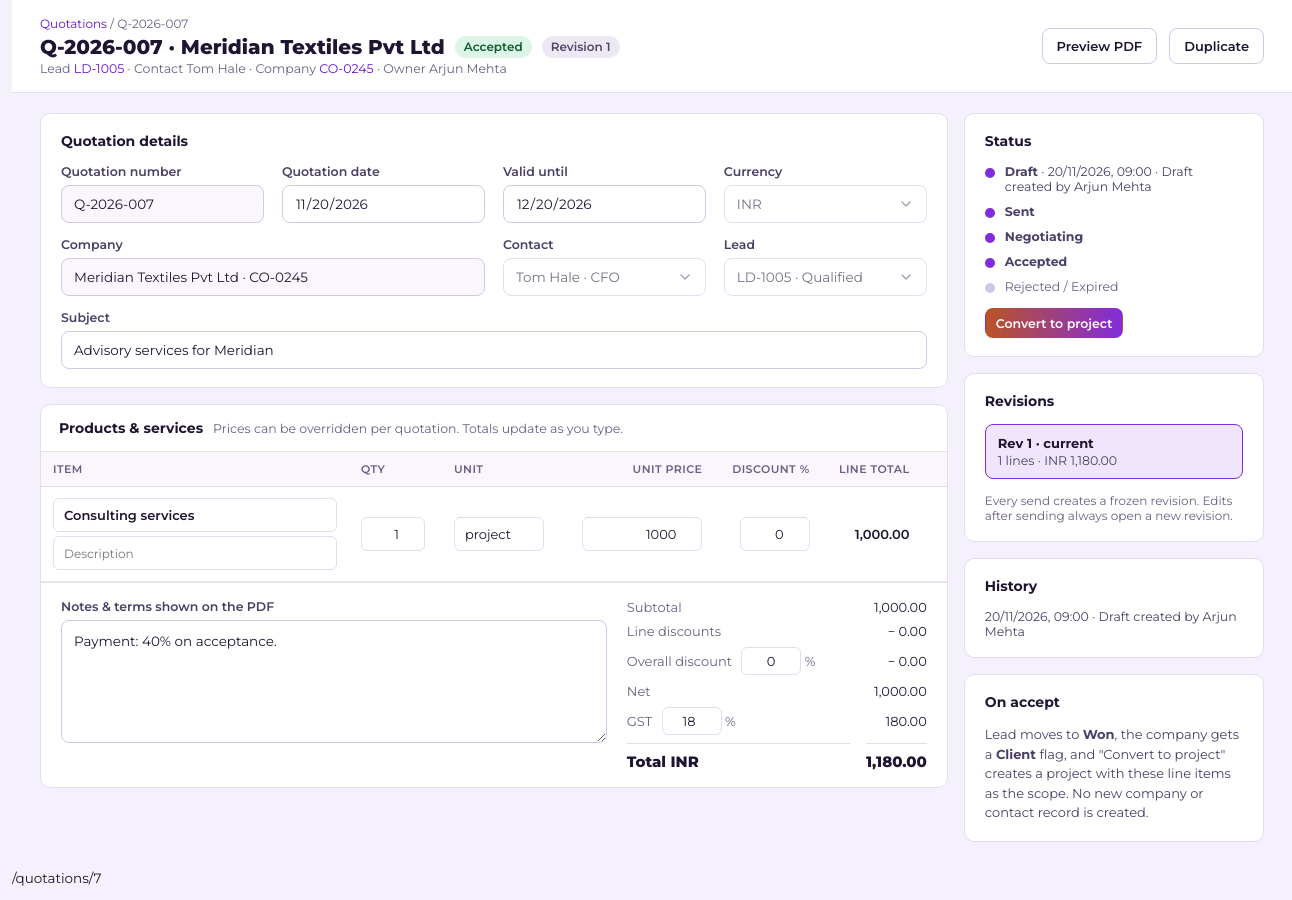
Quotation editor (prototype V.quoteEditor) › Convert to project: enabled on an Accepted quotation without a project, then the project link
Click the button "Convert to project": point(1054, 323) [985,308,1123,338]
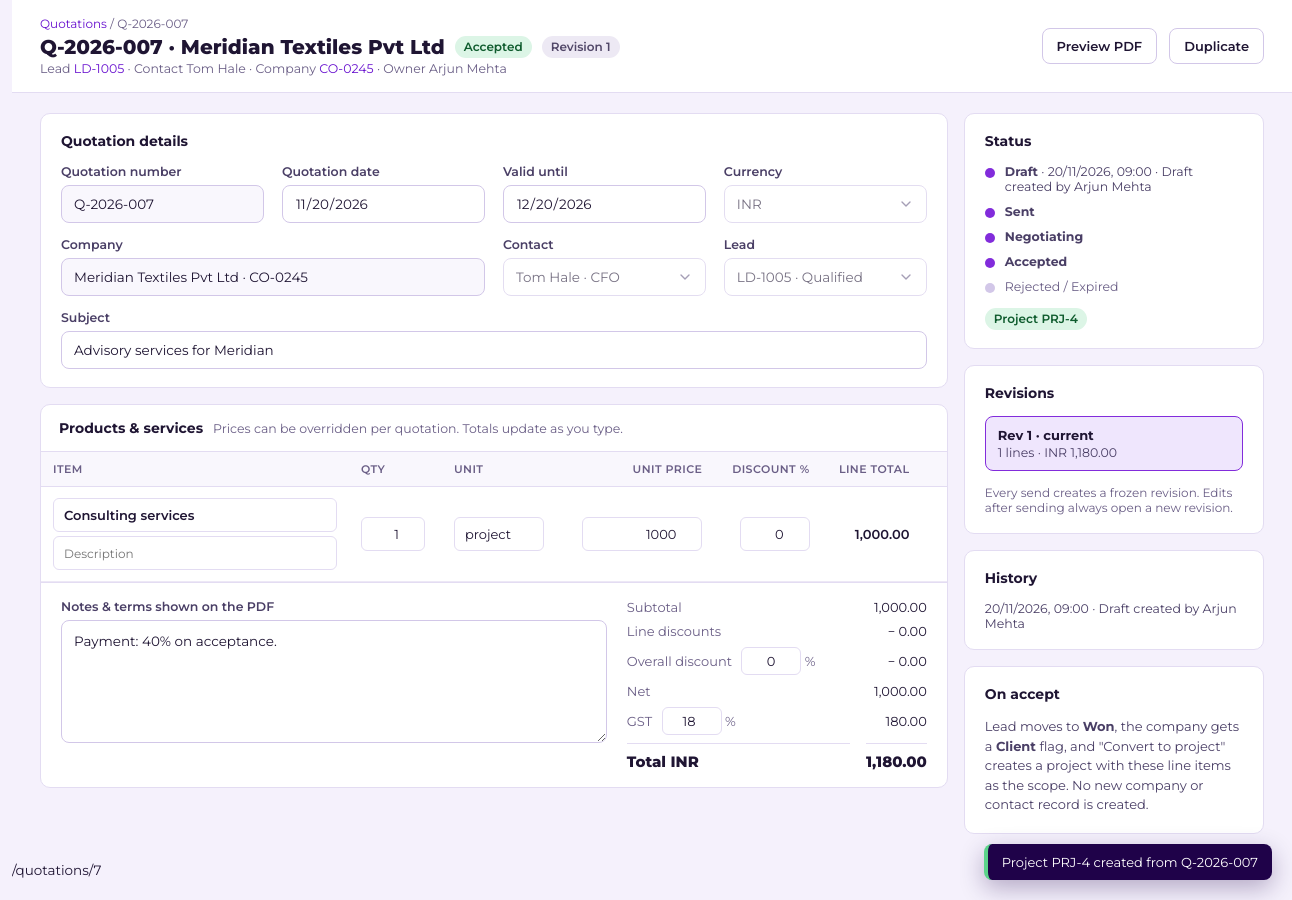
Expected: the text "Project PRJ-4 created from Q-2026-007" is shown, [984,844,1272,880]
